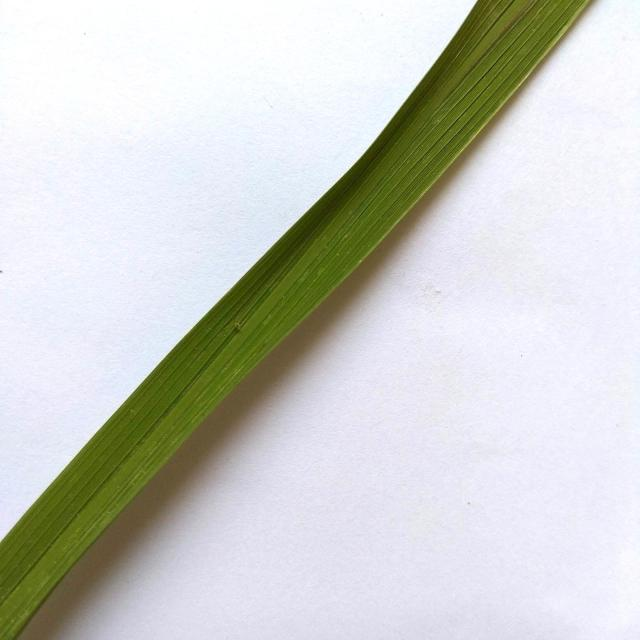healthy: (2, 0, 590, 640)
